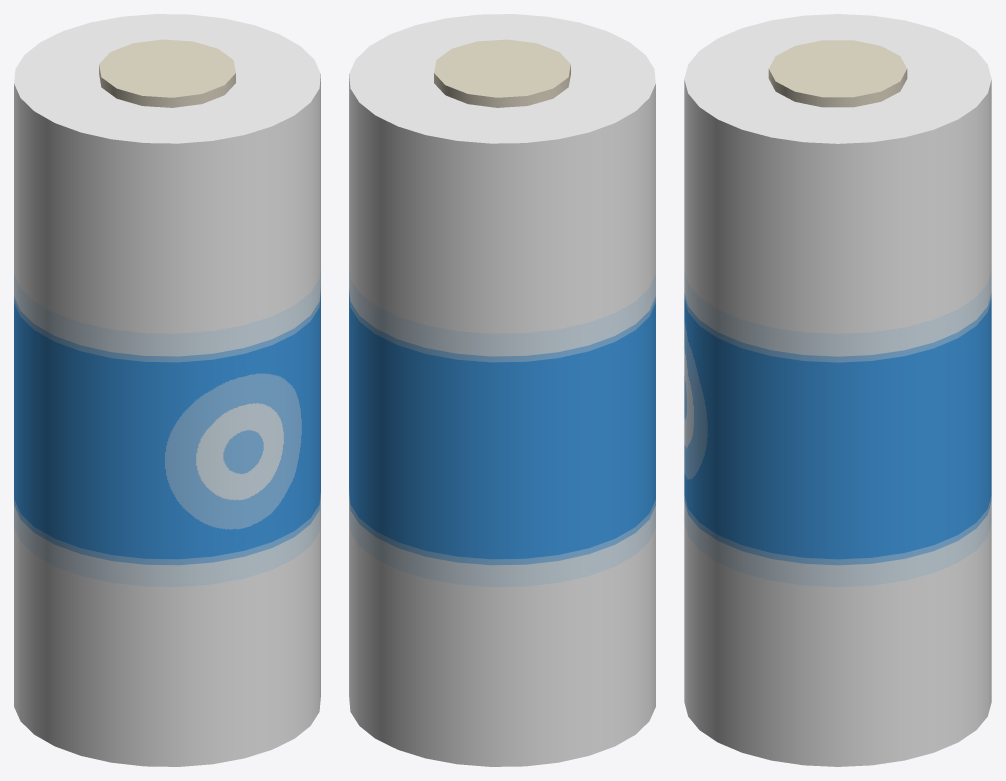
The model's file is Paper_Towels.fbx.
3 views of the same model, side by side, from view 1: azimuth 30°, elevation 25°; view 2: azimuth 150°, elevation 25°; view 3: azimuth 270°, elevation 25° (orthographic).
Parts seen in each view (by area): view 1: Paper_Towels; view 2: Paper_Towels; view 3: Paper_Towels.
Part boxes in pixels (<box>): Paper_Towels: <box>14,14,320,766</box>; Paper_Towels: <box>349,14,655,766</box>; Paper_Towels: <box>684,14,991,766</box>.
Bounding box in the file's own units: 0.11 × 0.254 × 0.11.
Materials: 3 (1 with a texture image).
